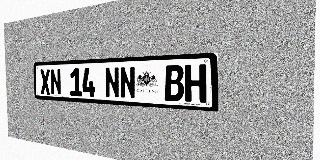1: (70, 68, 82, 96)
4: (82, 68, 95, 97)
B: (164, 65, 184, 102)
H: (185, 64, 206, 103)
N: (120, 66, 136, 99), (105, 67, 120, 98), (50, 69, 61, 95)
X: (40, 69, 51, 95)
